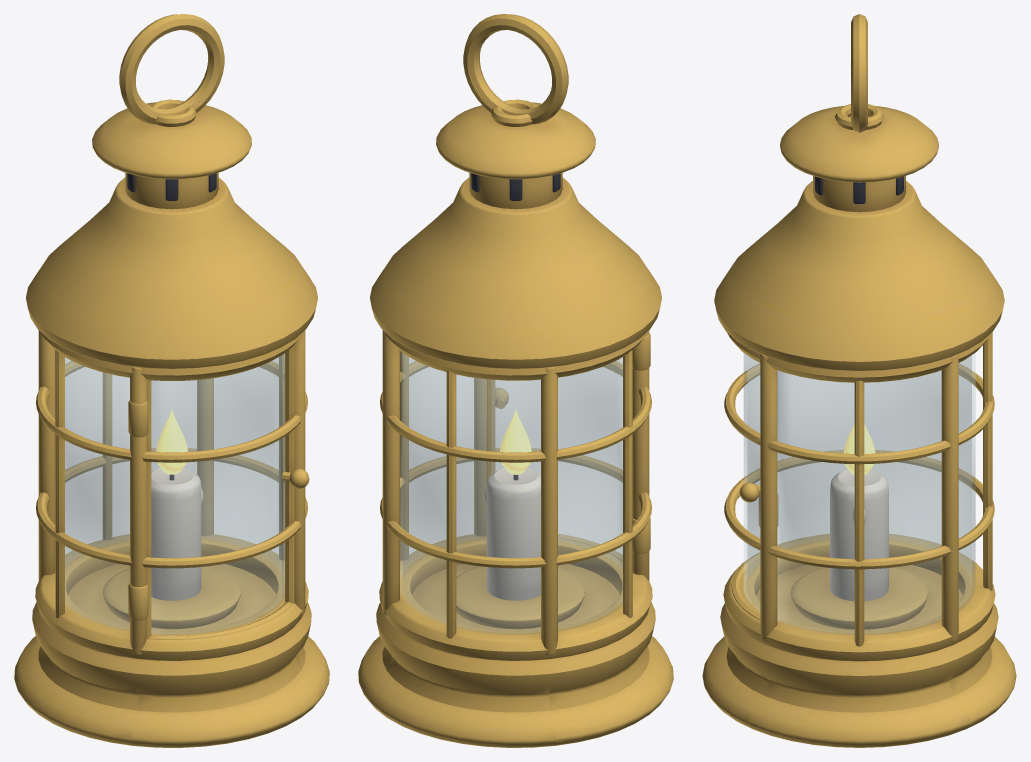
Rendered from farol_barco.glb.
3 renders of one model, left to right at view 1: azimuth 30°, elevation 25°; view 2: azimuth 150°, elevation 25°; view 3: azimuth 270°, elevation 25°, orthographic.
Parts seen in each view (by area): view 1: ship-lantern_body; view 2: ship-lantern_body; view 3: ship-lantern_body.
Boxes of the visible parts, bbox=[...] form: ship-lantern_body: bbox=[14, 14, 329, 747]; ship-lantern_body: bbox=[358, 14, 673, 747]; ship-lantern_body: bbox=[702, 14, 1016, 747].
Bounding box in the file's own units: 0.2031 × 0.4744 × 0.2031.
Materials: 6 (2 with a texture image).
